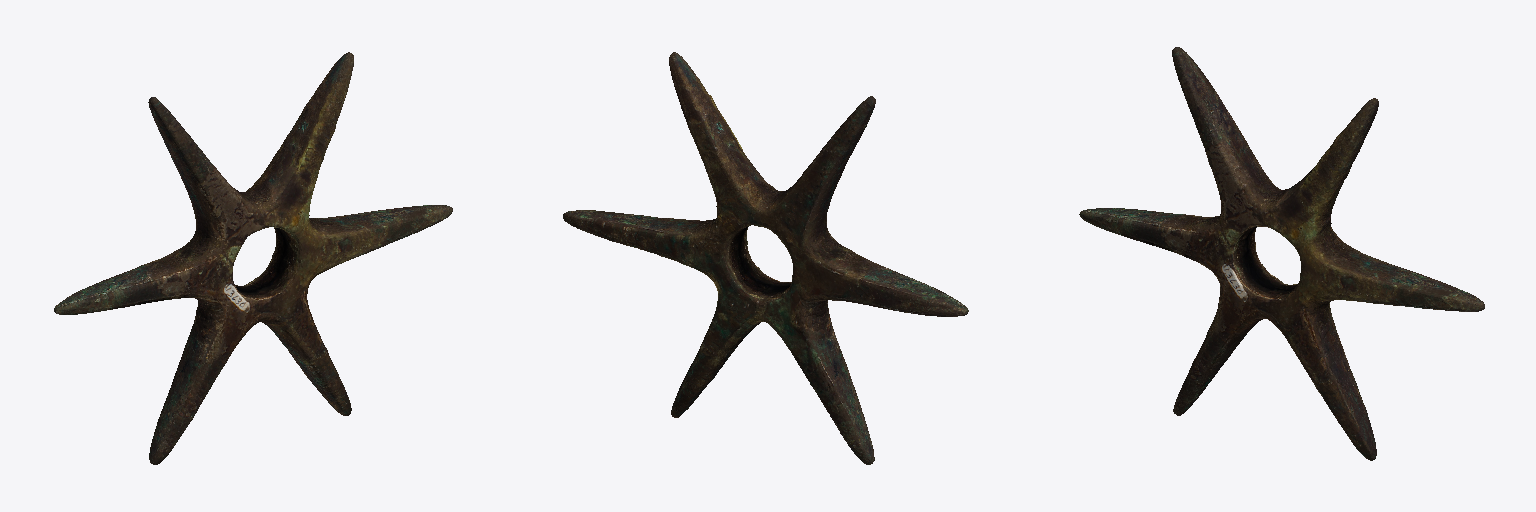
3 renders of one model, left to right at view 1: azimuth 30°, elevation 25°; view 2: azimuth 150°, elevation 25°; view 3: azimuth 330°, elevation 25°, orthographic.
Parts seen in each view (by area): view 1: mmGroup0; view 2: mmGroup0; view 3: mmGroup0.
Part boxes in pixels (left/top/right/bottom): mmGroup0: left=54, top=52, right=452, bottom=464; mmGroup0: left=563, top=52, right=968, bottom=464; mmGroup0: left=1079, top=47, right=1484, bottom=460.
Size of the model in its own units: 154 by 135 by 17.92.
Materials: 1 (1 with a texture image).